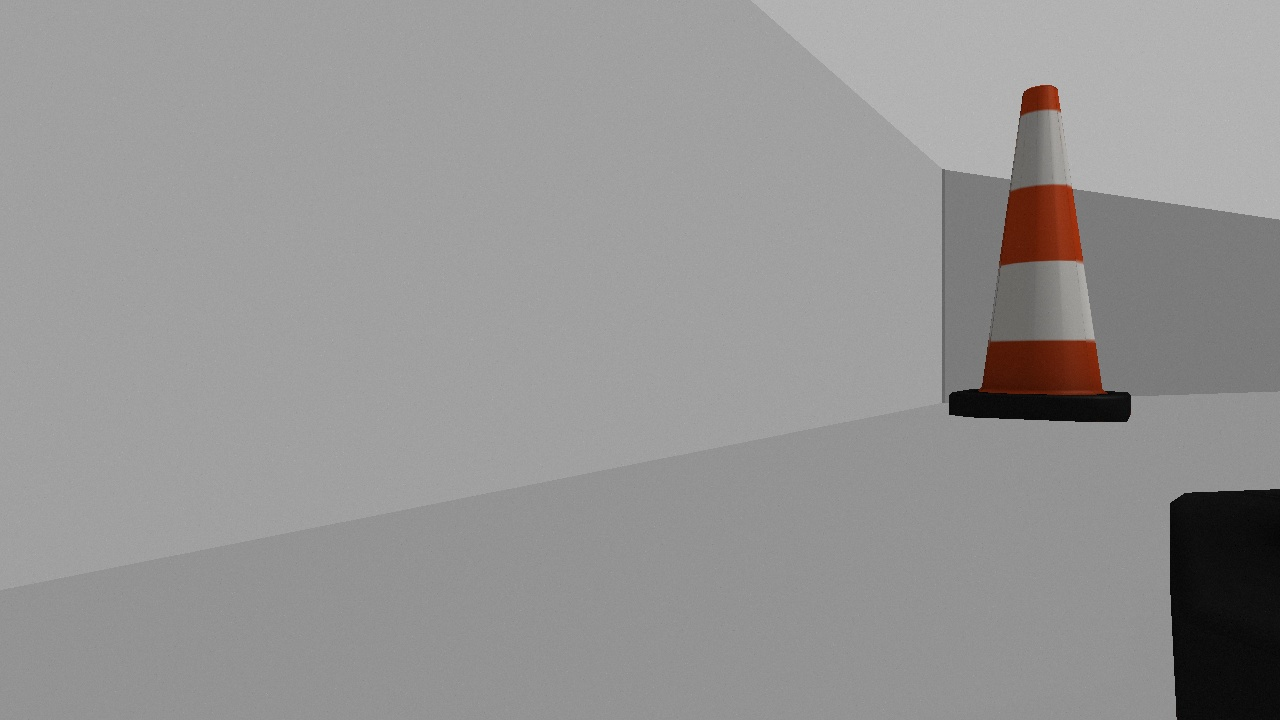barricade: (922, 85, 1156, 441)
